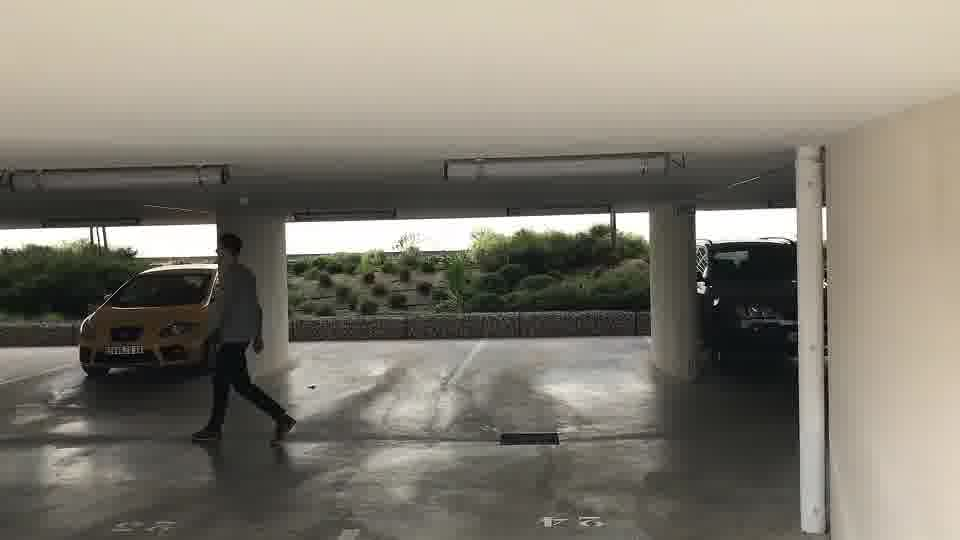jugador: (191, 227, 296, 448)
